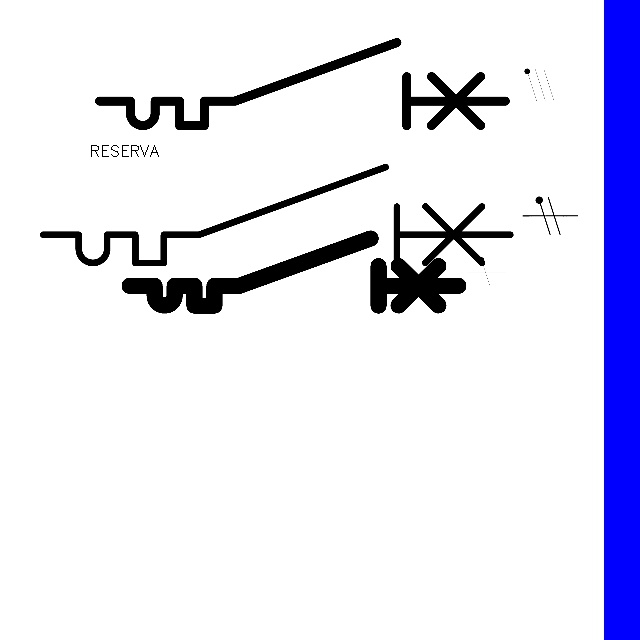interruptor_termomagnetico: (31, 155, 522, 275), (89, 32, 516, 136), (121, 230, 466, 314)
